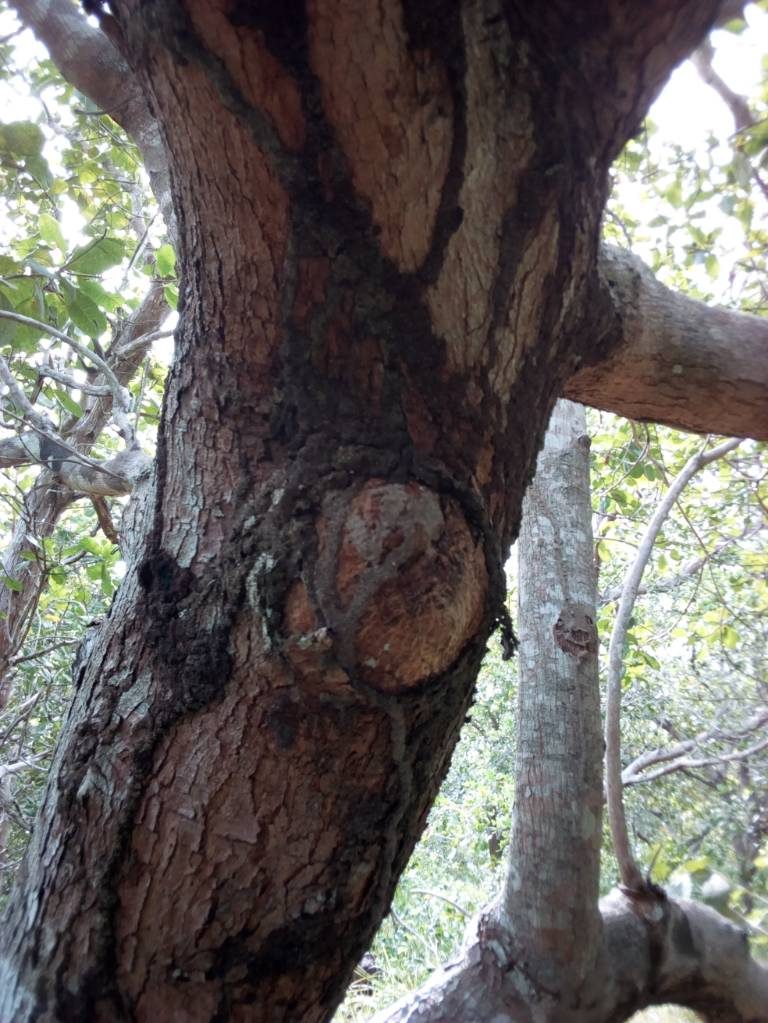Termites: (58, 547, 246, 1011), (255, 142, 488, 502), (308, 525, 425, 930)
